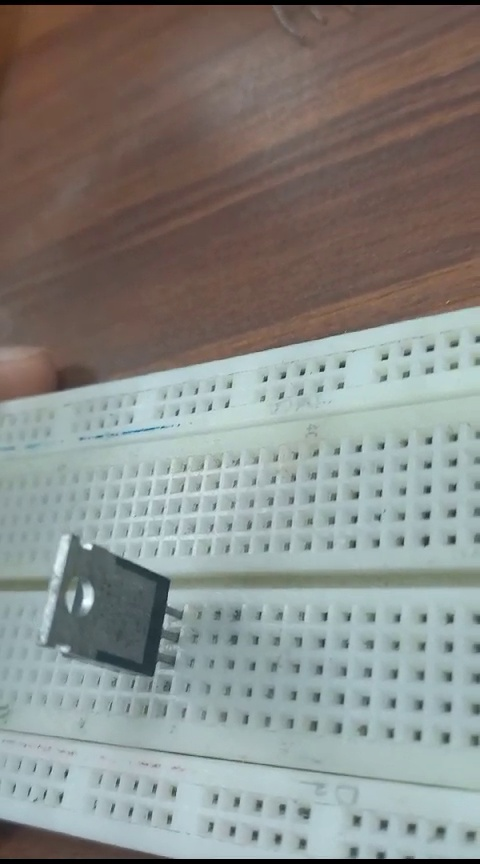voltage regulator: (34, 525, 182, 695)
